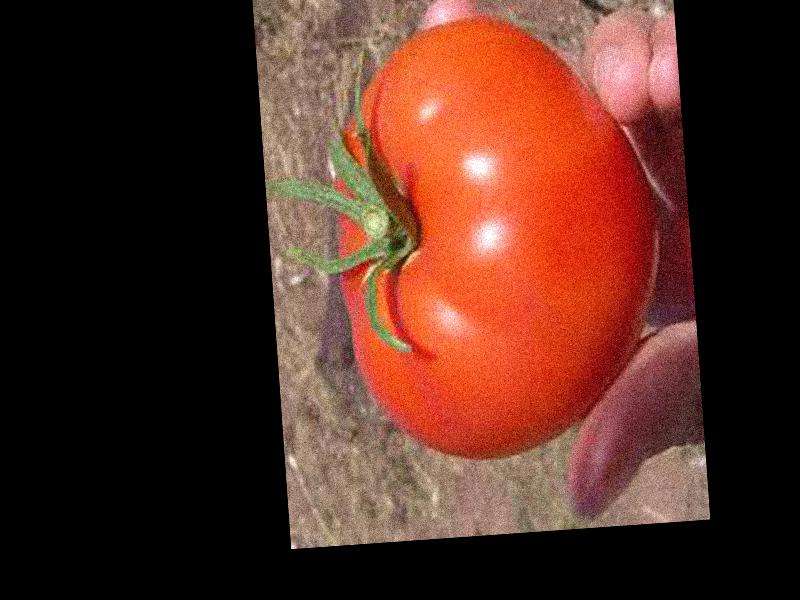Tomato: (322, 7, 669, 468)
